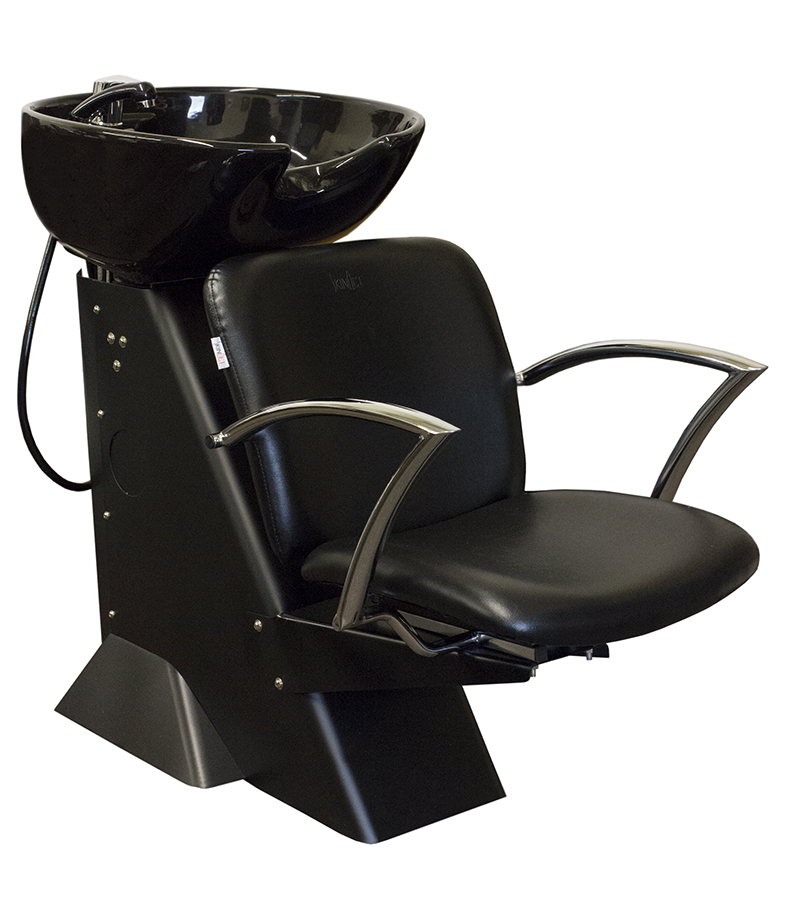chairs: (195, 242, 776, 655)
